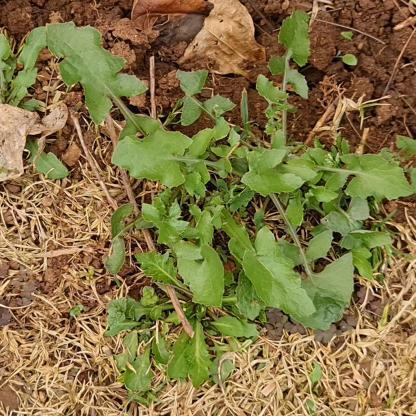Weeds: (48, 9, 415, 394), (0, 27, 68, 183)
